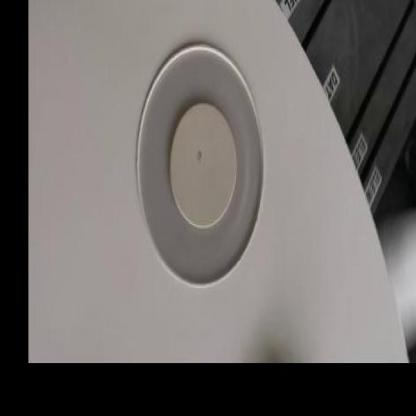light_off: (118, 6, 276, 306)
